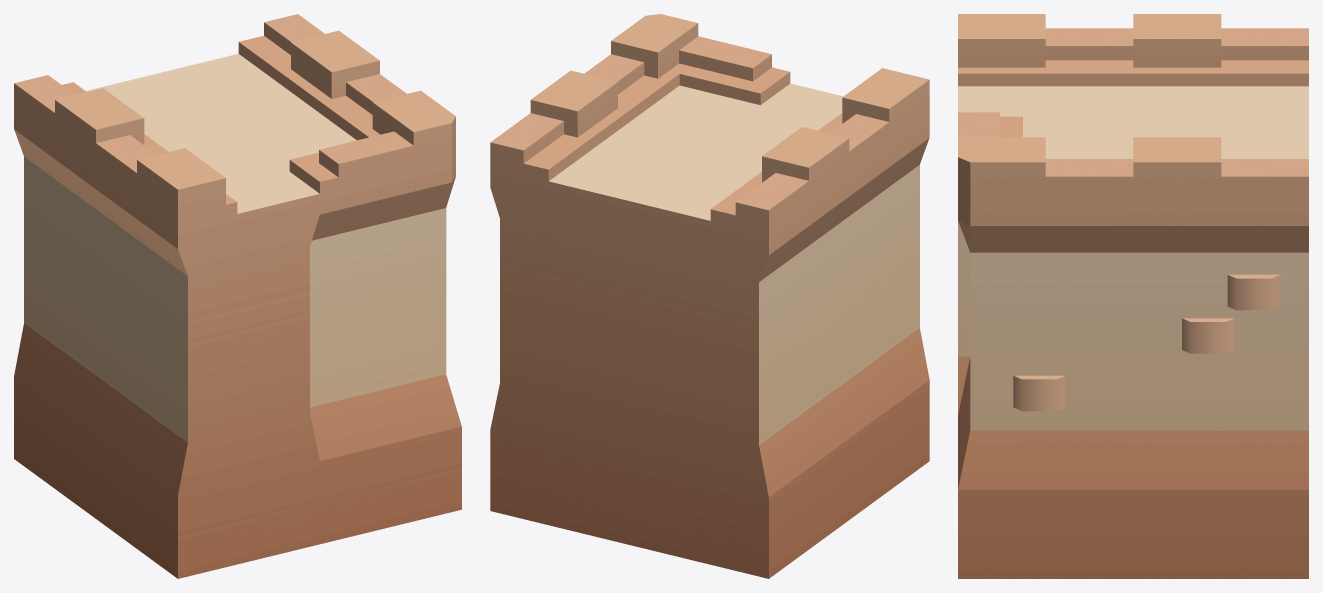
The model's file is mirror-wall-to-narrow.glb.
3 views of the same model, side by side, from view 1: azimuth 30°, elevation 25°; view 2: azimuth 150°, elevation 25°; view 3: azimuth 270°, elevation 25° (orthographic). The views are drawn at different scales.
Parts seen in each view (by area): view 1: wall-to-narrow; view 2: wall-to-narrow; view 3: wall-to-narrow.
Boxes of the visible parts, left/top/right/bottom form: wall-to-narrow: left=14, top=14, right=461, bottom=578; wall-to-narrow: left=490, top=14, right=929, bottom=578; wall-to-narrow: left=958, top=14, right=1308, bottom=578.
Size of the model in its own units: 1 by 1.31 by 1.
1 material, 1 textured.
